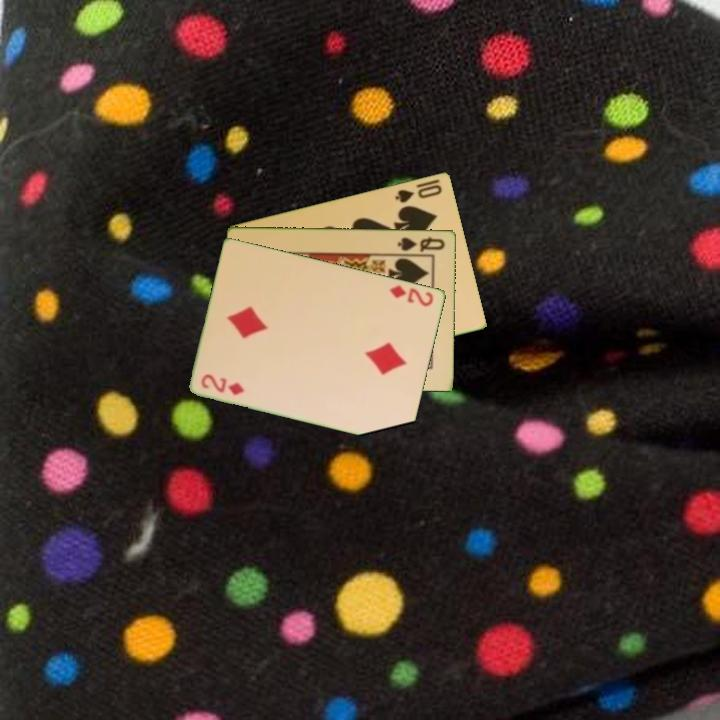10s: (392, 181, 445, 205)
2d: (387, 281, 437, 309), (198, 371, 248, 398)
Qs: (394, 233, 448, 254)
